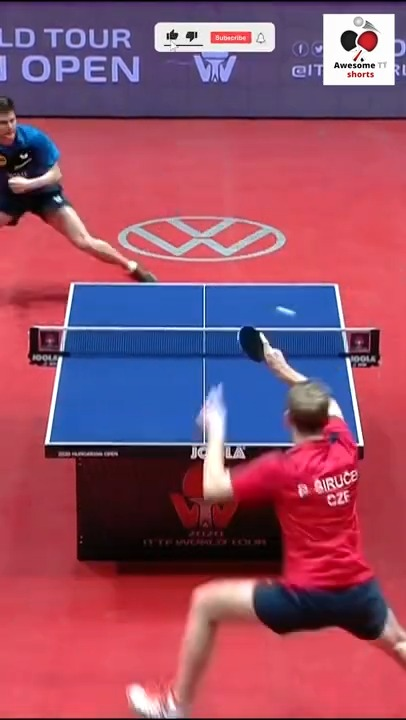Ball: (276, 306, 297, 320)
